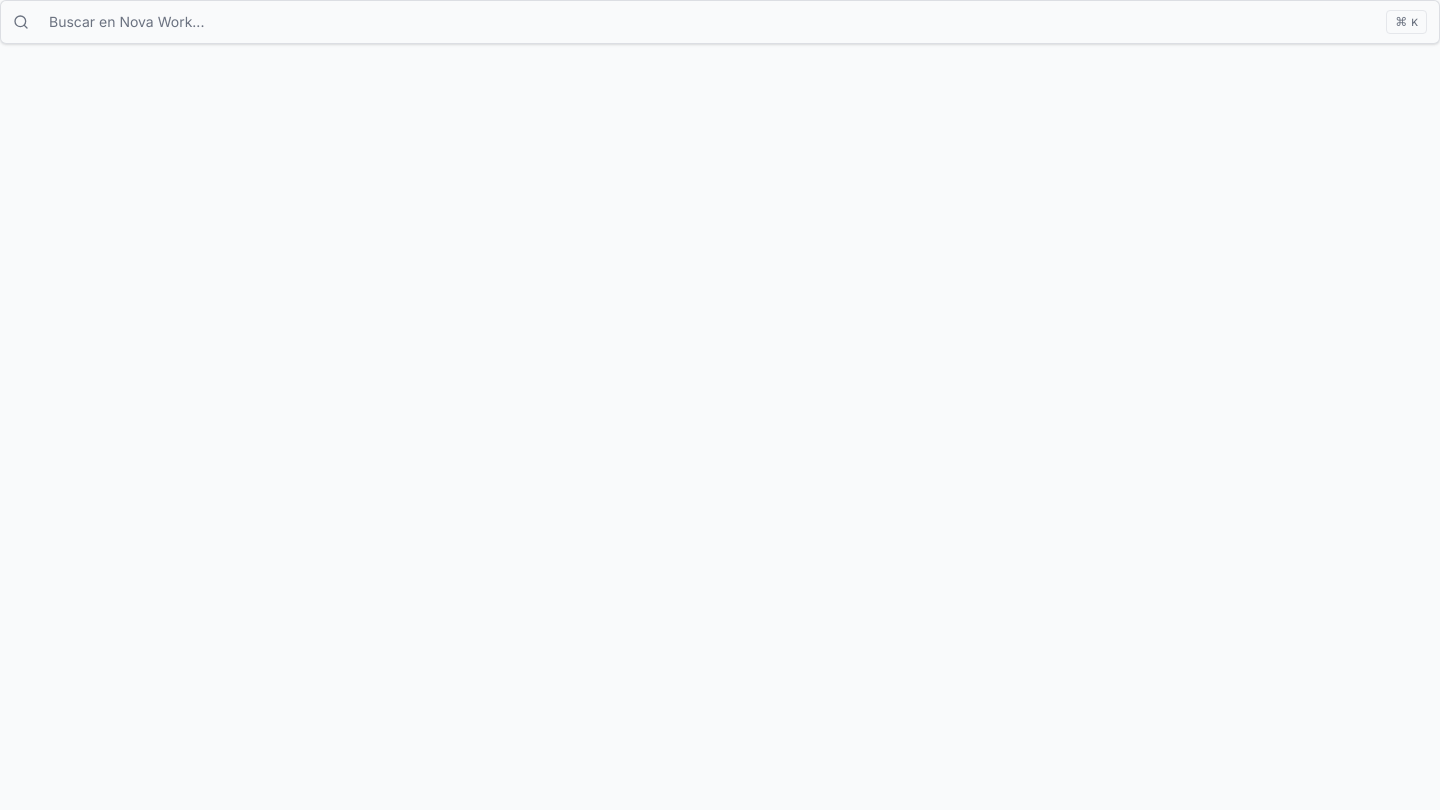
Test: GlobalSearch › renders search input after opening dialog
Click the button.
click(127, 22)  # box x1=0 y1=0 x2=1439 y2=44
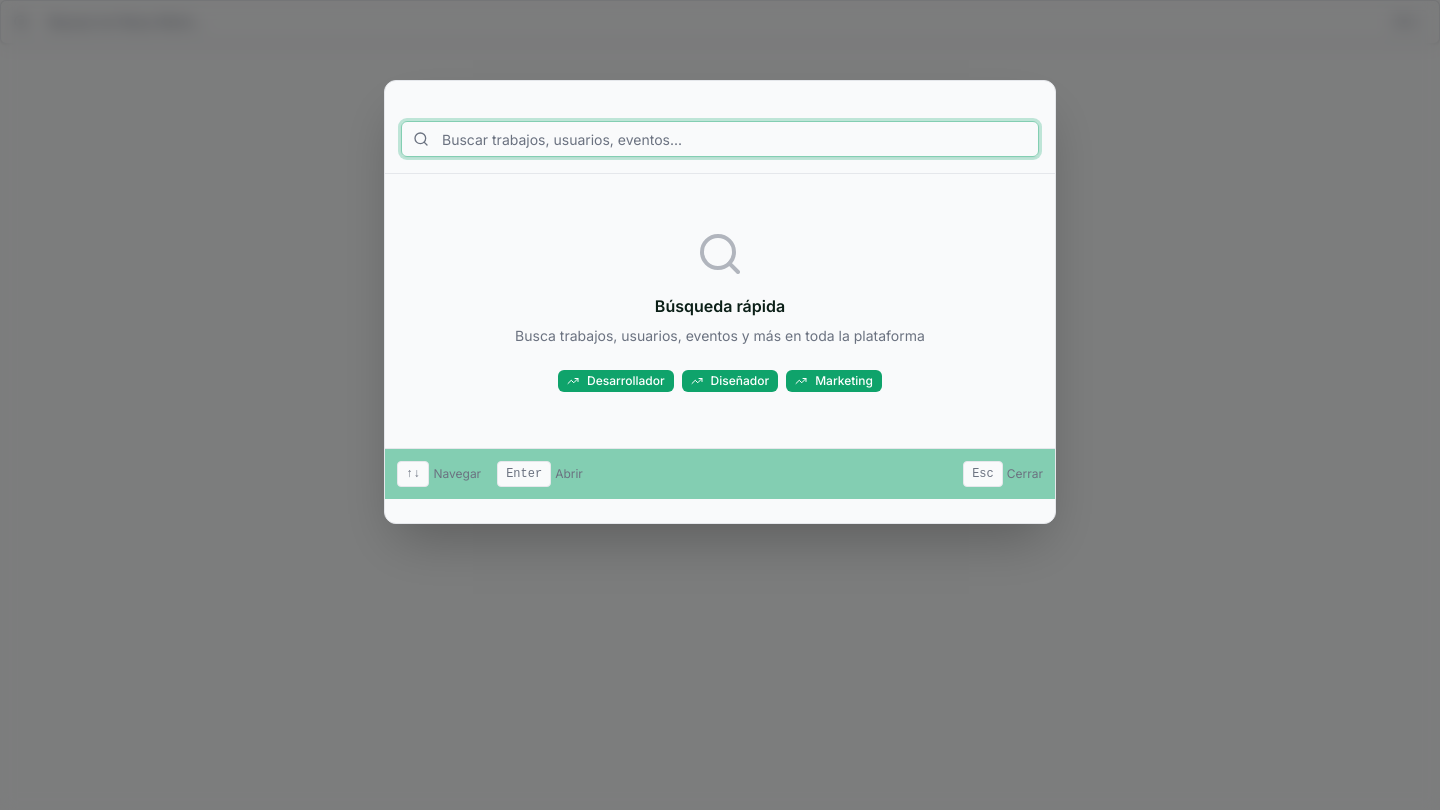
Expected: the field with placeholder "Buscar trabajos, usuarios, eventos..." is shown, x1=401 y1=121 x2=1039 y2=157
